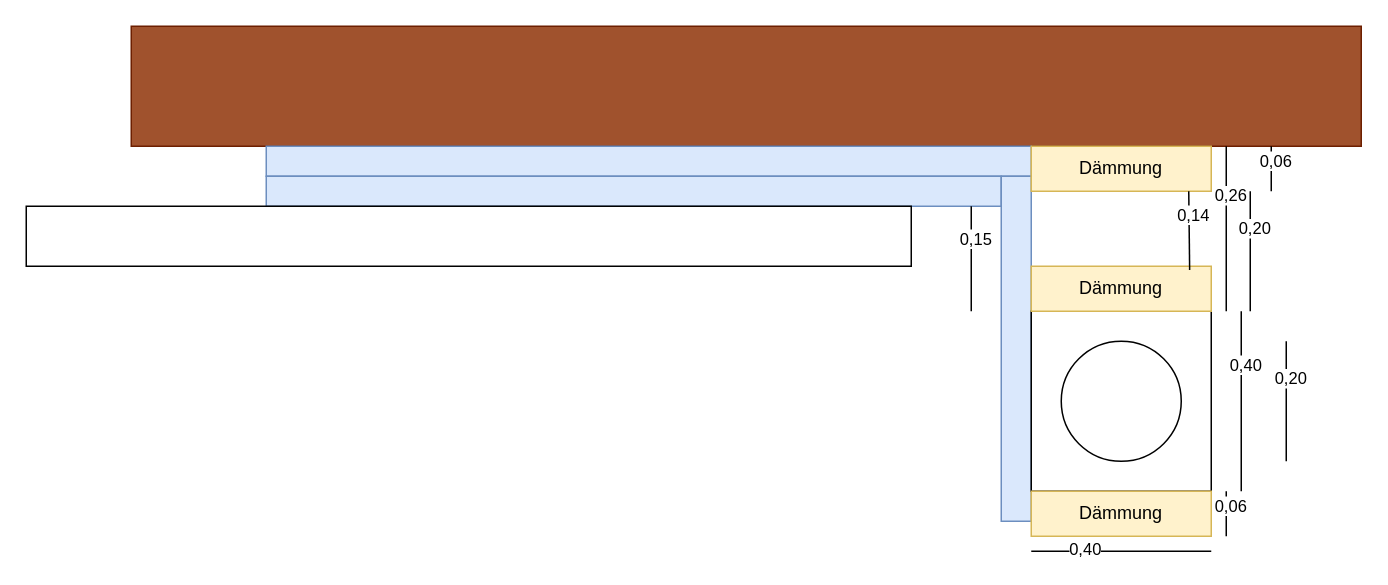
The diagram is 1388 pixels wide and 585 high, and some of its shapes have lost their labels. The box of each missing label's shape, as (x1, y1, x2, y2) in pixels:
Kalziumsilikat: (265, 145, 1031, 176)
Luftzufuhr unter dem Ofen: (25, 205, 911, 266)
